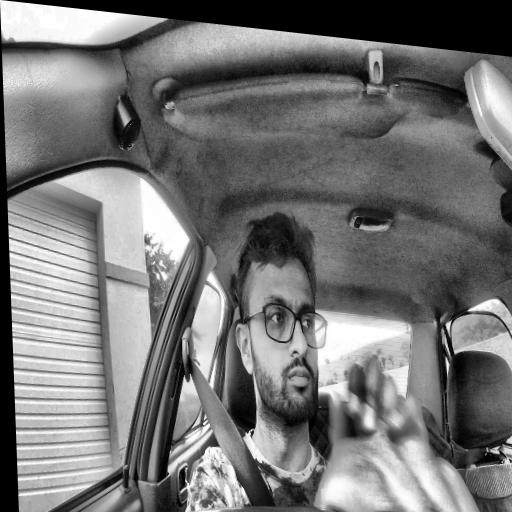awake: (231, 204, 332, 432)
